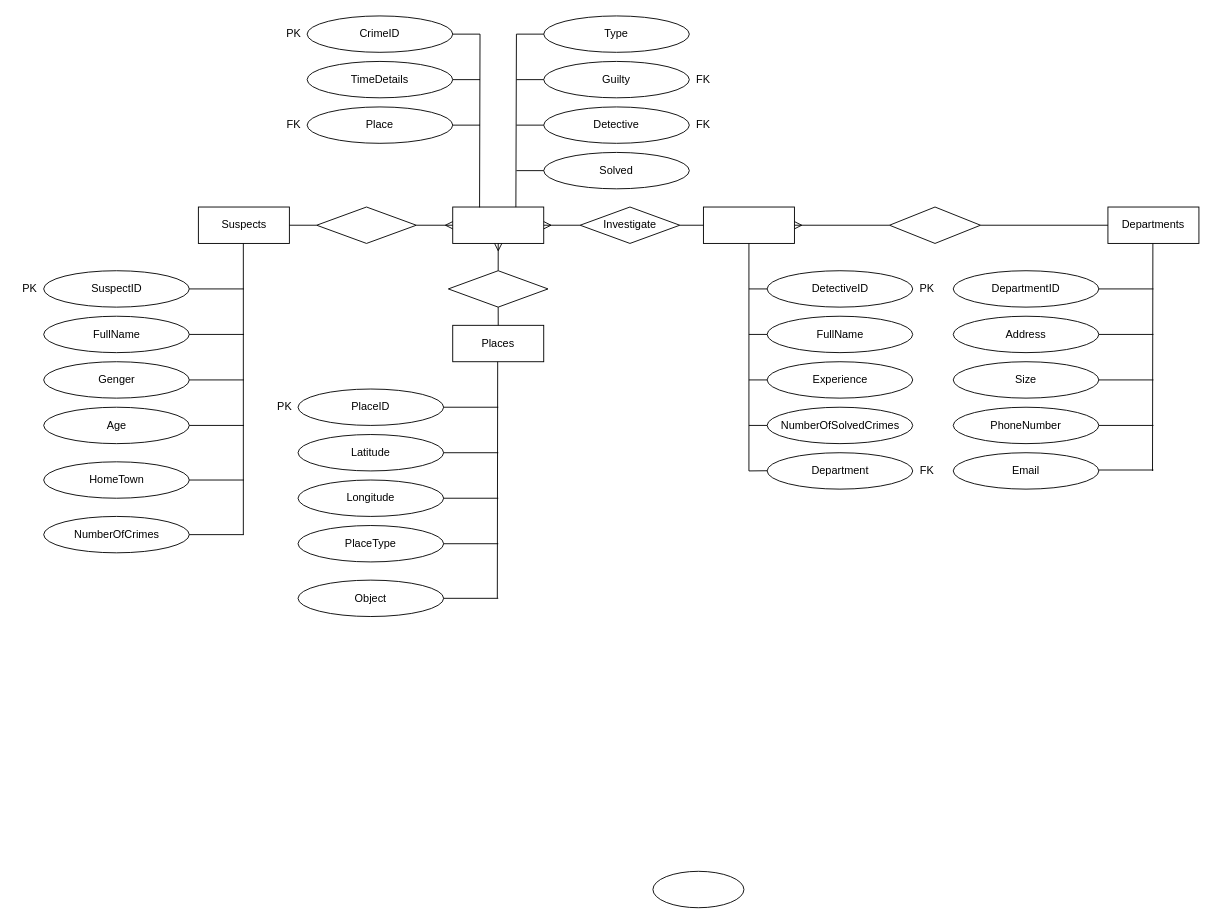
Image size: 1215x924. Some labels were removed from this diagram. Each missing label, with the box of its shape:
Are accused: (316, 206, 416, 243)
Contain: (889, 206, 981, 243)
Crimes: (452, 206, 544, 243)
Detectives: (703, 206, 794, 243)
Hold: (447, 270, 548, 307)
